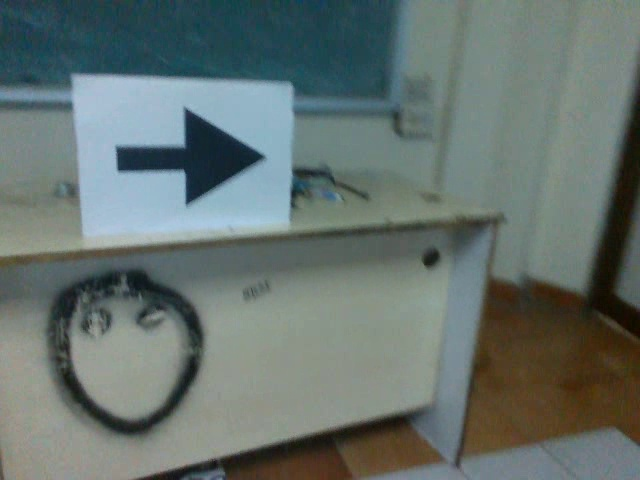Right: (111, 103, 271, 211)
